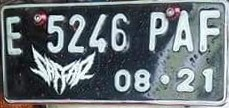plate: (1, 2, 229, 105)
